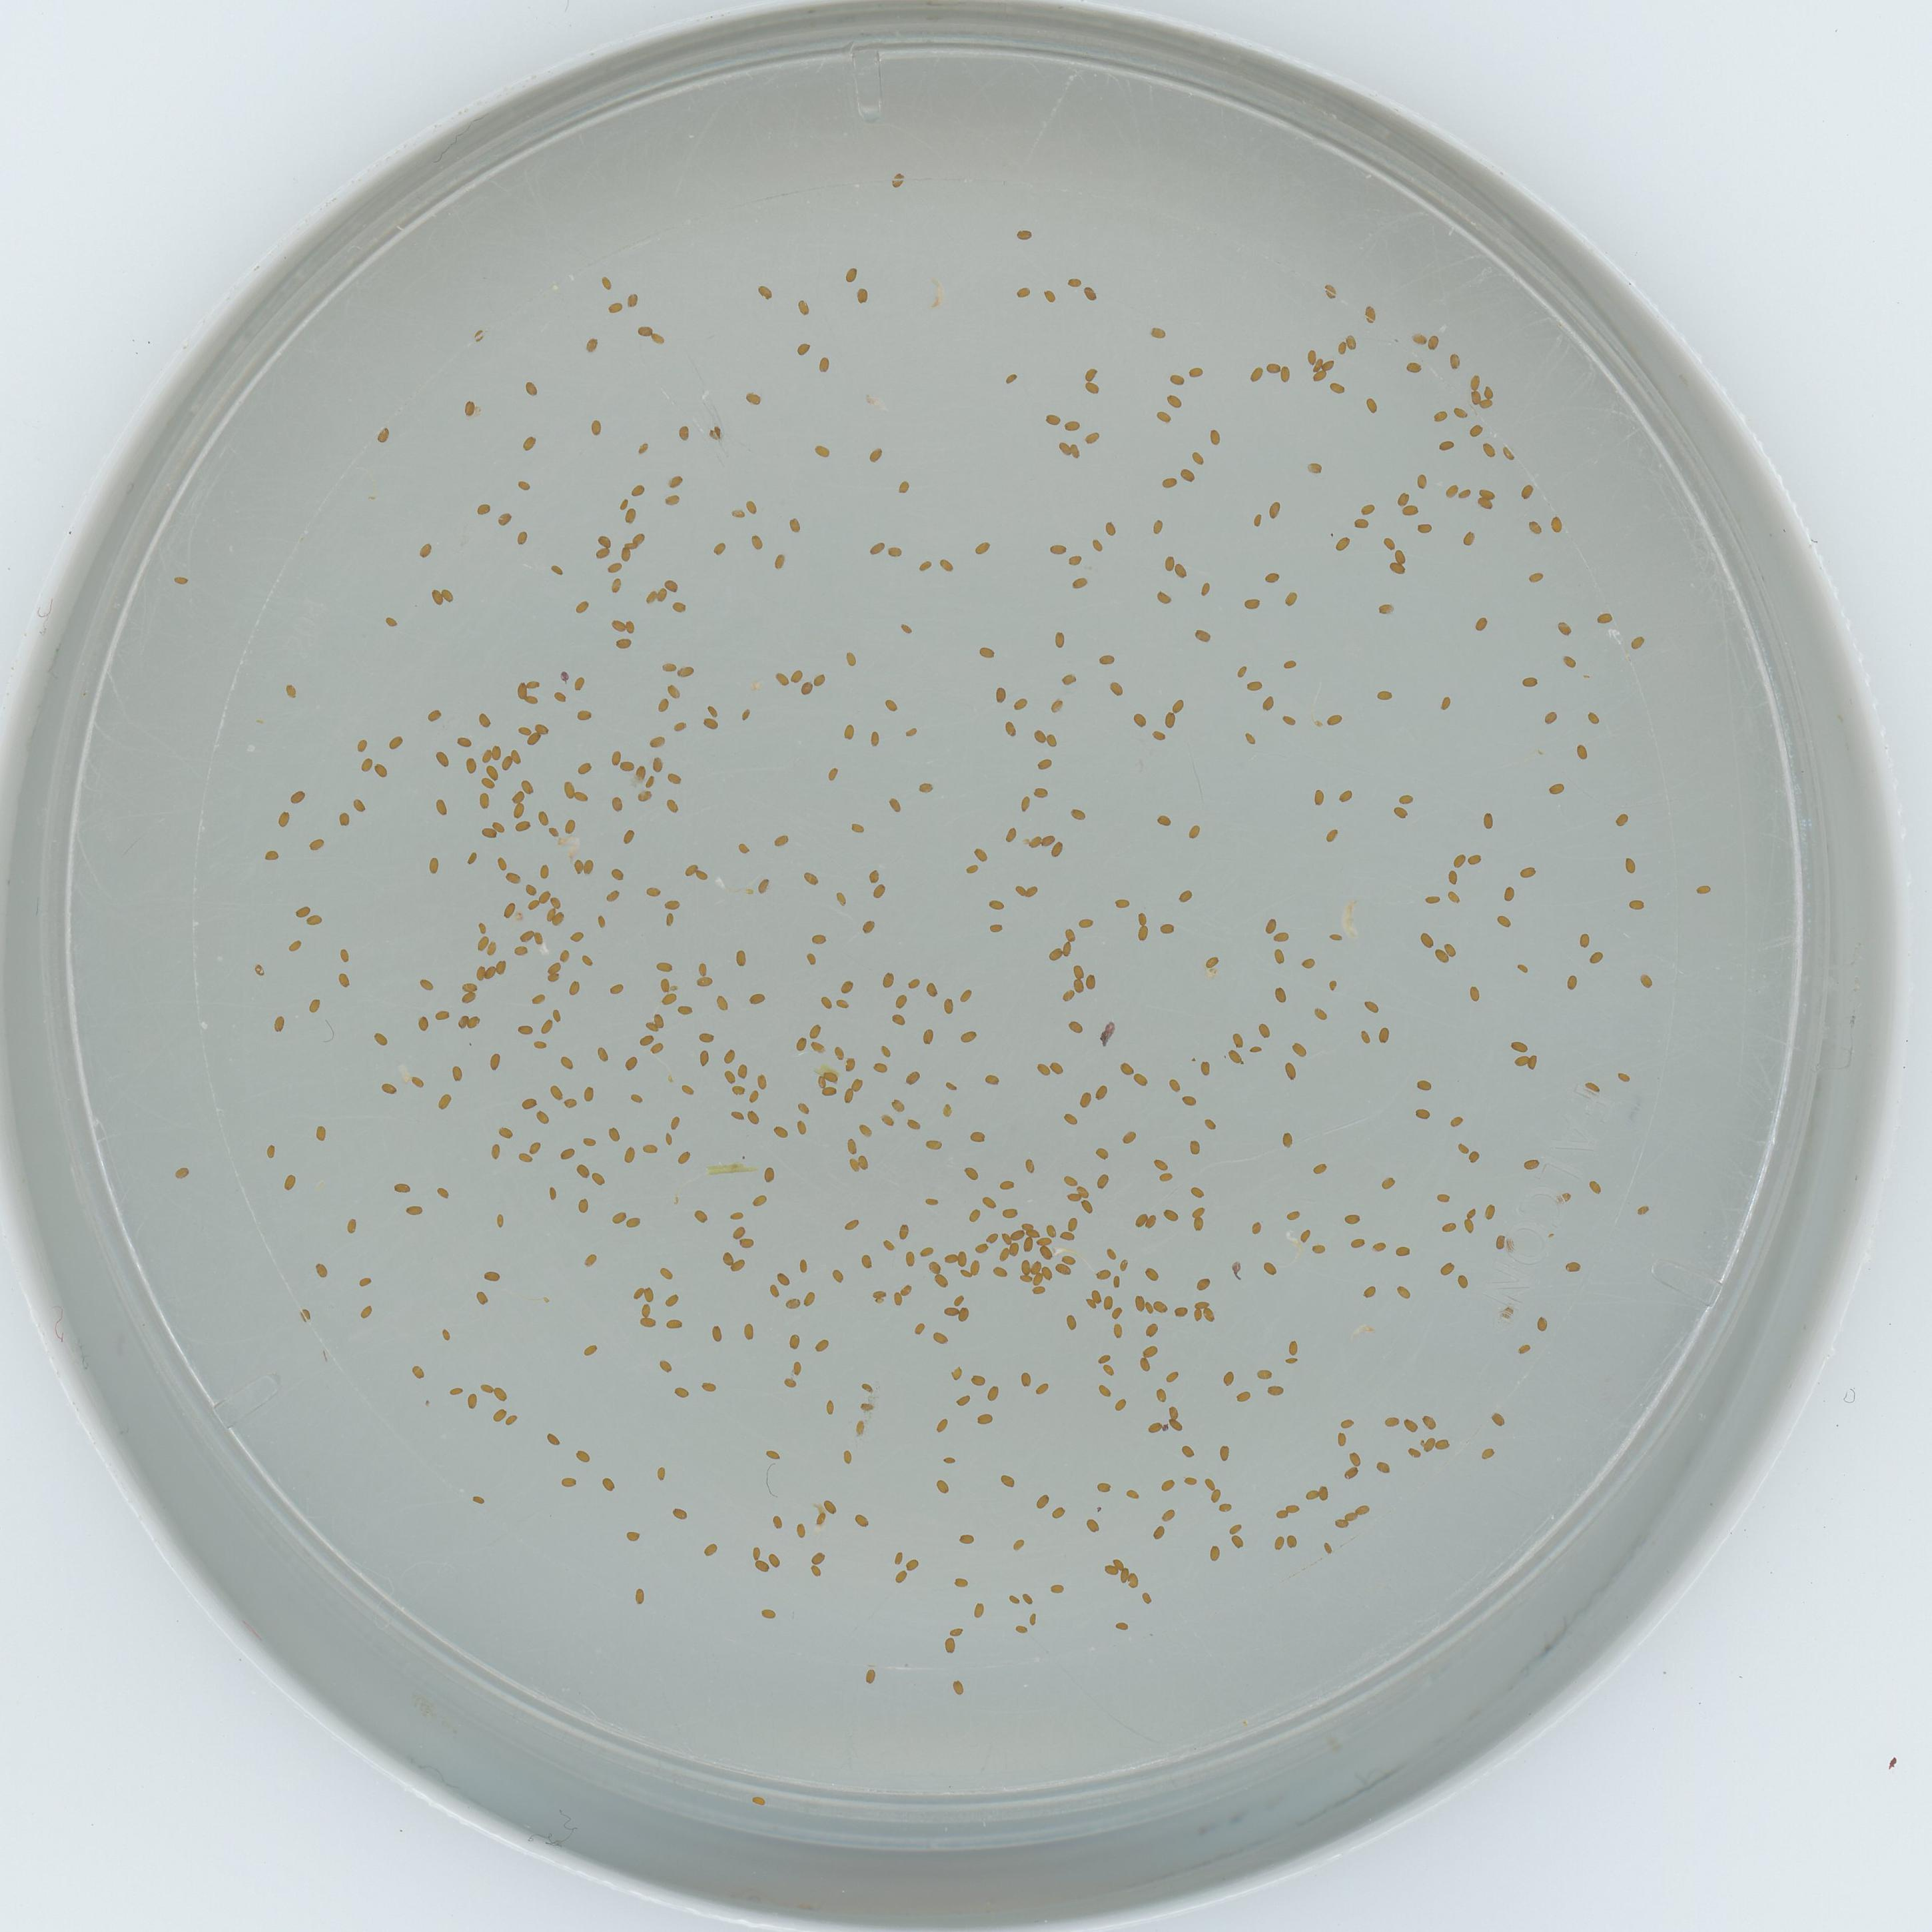seed: (1281, 1060, 1300, 1083), (433, 748, 453, 770), (842, 264, 862, 283), (1477, 812, 1497, 832), (959, 1026, 980, 1044), (732, 947, 748, 970), (1095, 651, 1118, 667), (855, 285, 874, 303), (816, 356, 835, 373), (609, 794, 628, 812), (432, 798, 449, 817), (890, 170, 909, 188), (435, 1090, 455, 1108), (695, 1049, 715, 1067), (740, 1322, 759, 1339), (269, 1014, 288, 1031), (1415, 931, 1435, 948), (1177, 465, 1196, 483), (1546, 515, 1566, 533), (1573, 743, 1592, 761), (1509, 1035, 1529, 1053), (1260, 1258, 1279, 1276), (1290, 1039, 1309, 1056), (1438, 1258, 1458, 1276), (1419, 1412, 1438, 1430), (1279, 1131, 1297, 1150), (1092, 1171, 1111, 1189), (950, 1573, 971, 1589), (1069, 575, 1090, 591), (810, 929, 828, 947), (334, 810, 352, 828), (274, 810, 292, 828), (748, 533, 766, 550), (372, 763, 389, 780), (517, 925, 534, 943), (810, 1548, 828, 1566), (548, 1081, 566, 1099), (931, 1327, 948, 1345), (414, 1014, 432, 1031), (793, 1522, 810, 1539), (591, 1168, 609, 1185), (580, 1083, 598, 1100), (918, 1026, 936, 1044), (794, 1116, 812, 1134), (621, 1145, 639, 1162), (605, 1123, 623, 1141), (632, 1587, 649, 1605), (708, 1323, 725, 1341), (1192, 626, 1210, 644), (1258, 695, 1276, 713), (991, 686, 1008, 704), (1131, 711, 1148, 729), (1164, 391, 1182, 409), (1445, 350, 1463, 368), (1555, 619, 1573, 637), (1442, 939, 1460, 957), (1201, 954, 1219, 971), (1189, 448, 1207, 465), (1281, 589, 1299, 607), (1265, 501, 1283, 518), (1270, 985, 1288, 1003), (1154, 1297, 1171, 1315), (1375, 1024, 1392, 1042), (1523, 1154, 1541, 1171), (1401, 1414, 1419, 1431), (1083, 1516, 1100, 1534), (984, 1384, 1001, 1401), (573, 1196, 593, 1212), (573, 1161, 593, 1177), (718, 1247, 734, 1267), (957, 1532, 977, 1548), (1063, 272, 1083, 288), (1104, 679, 1123, 695), (1244, 678, 1263, 694), (1270, 947, 1286, 966), (1049, 632, 1069, 648), (1260, 918, 1279, 934), (1141, 1322, 1161, 1338), (1341, 1208, 1361, 1224), (1228, 1030, 1247, 1046), (1265, 1382, 1284, 1398), (1093, 1083, 1109, 1102), (1092, 1145, 1111, 1161), (1058, 672, 1079, 686), (1155, 1169, 1177, 1184), (287, 789, 304, 805), (386, 734, 403, 750), (938, 557, 955, 573), (474, 501, 492, 517), (803, 872, 821, 888), (418, 541, 435, 557), (525, 732, 543, 748), (456, 732, 472, 750), (621, 828, 637, 846), (745, 389, 763, 405), (292, 902, 310, 918), (556, 947, 573, 962), (596, 531, 614, 547), (520, 435, 538, 451), (587, 419, 605, 435), (655, 697, 672, 713), (755, 879, 773, 895), (649, 734, 667, 750), (511, 803, 527, 821), (665, 895, 683, 911), (609, 865, 626, 881), (499, 902, 517, 918), (888, 798, 906, 814), (472, 934, 490, 950), (872, 883, 888, 901), (495, 511, 513, 527), (803, 950, 821, 966), (462, 757, 478, 775), (536, 863, 554, 879), (262, 847, 280, 863), (860, 918, 878, 934), (870, 540, 888, 556), (757, 283, 775, 299), (441, 587, 456, 605), (464, 849, 479, 867), (614, 635, 632, 651), (476, 793, 492, 810), (663, 577, 681, 593), (495, 957, 511, 975), (895, 1224, 913, 1240), (515, 1019, 533, 1035), (879, 1237, 897, 1253), (520, 1093, 538, 1109), (497, 1122, 515, 1138), (665, 1315, 683, 1330), (534, 1108, 552, 1123), (948, 1364, 964, 1382), (623, 1054, 640, 1070), (918, 1242, 936, 1258), (639, 1030, 656, 1046), (566, 980, 584, 996), (770, 1513, 787, 1529), (855, 1511, 872, 1527), (483, 1267, 501, 1283), (372, 1030, 389, 1046), (856, 1152, 874, 1168), (671, 1506, 688, 1522), (823, 1499, 840, 1514), (747, 1086, 764, 1102), (674, 1384, 692, 1399), (490, 1407, 508, 1422), (559, 1145, 577, 1161), (600, 1476, 617, 1491), (405, 1201, 423, 1217), (720, 1046, 738, 1062), (628, 1088, 646, 1104), (911, 1320, 929, 1336), (761, 1166, 778, 1182), (393, 1178, 410, 1194), (879, 971, 897, 987), (939, 998, 957, 1014), (311, 1123, 329, 1139), (904, 1069, 922, 1085), (858, 1253, 876, 1269), (824, 1067, 842, 1083), (846, 1136, 863, 1152), (947, 1622, 964, 1638), (789, 1359, 807, 1375), (814, 1336, 832, 1352), (341, 1217, 359, 1233), (656, 1357, 674, 1373), (697, 1026, 715, 1042), (855, 1419, 872, 1435), (662, 989, 679, 1005), (449, 1065, 467, 1081), (761, 1605, 778, 1621), (890, 1095, 908, 1111), (786, 1332, 803, 1348), (754, 1070, 771, 1086), (775, 1269, 793, 1284), (609, 1207, 626, 1223), (669, 1111, 685, 1129), (640, 1315, 658, 1330), (943, 1077, 961, 1093), (954, 1392, 971, 1408), (1047, 540, 1065, 556), (1042, 410, 1060, 426), (1309, 791, 1327, 807), (1467, 421, 1484, 437), (1629, 633, 1645, 651), (1362, 396, 1380, 412), (1033, 755, 1051, 771), (1154, 589, 1171, 605), (1500, 444, 1516, 462), (1067, 807, 1085, 823), (1352, 517, 1369, 533), (1014, 283, 1031, 299), (1520, 863, 1536, 881), (1596, 609, 1614, 625), (1161, 711, 1177, 729), (1548, 780, 1566, 796), (1111, 895, 1129, 911), (1065, 552, 1083, 568), (1500, 885, 1518, 901), (1495, 911, 1511, 929), (1076, 915, 1093, 931), (1242, 594, 1260, 610), (1012, 695, 1030, 711), (1415, 520, 1433, 536), (1063, 416, 1081, 432), (1438, 435, 1456, 451), (1426, 333, 1444, 349), (1154, 409, 1171, 425), (1081, 380, 1099, 396), (1472, 616, 1490, 632), (1157, 920, 1175, 936), (977, 646, 994, 662), (1001, 720, 1019, 736), (1405, 357, 1422, 373), (1380, 534, 1398, 550), (1079, 285, 1097, 301), (1003, 828, 1021, 844), (1451, 403, 1468, 419), (1481, 441, 1499, 456), (1173, 563, 1189, 580), (1148, 322, 1166, 338), (1272, 929, 1290, 945), (971, 847, 989, 863), (1155, 812, 1171, 830), (1334, 536, 1352, 552), (1527, 570, 1545, 586), (1391, 807, 1408, 823), (1376, 686, 1392, 704), (1168, 370, 1185, 386), (1299, 955, 1316, 971), (1394, 488, 1412, 504), (982, 1070, 1000, 1086), (1483, 1201, 1499, 1219), (998, 1472, 1016, 1488), (1194, 1274, 1212, 1290), (1332, 1431, 1350, 1447), (1440, 1217, 1458, 1233), (1141, 1339, 1159, 1355), (991, 1263, 1008, 1279), (1224, 1047, 1242, 1063), (1490, 1410, 1506, 1428), (1373, 1458, 1391, 1474), (1214, 1444, 1230, 1461), (1065, 1017, 1083, 1033), (1415, 1074, 1433, 1090), (1077, 1198, 1095, 1214), (1254, 1021, 1272, 1037), (1394, 1242, 1412, 1258), (1300, 1486, 1318, 1502), (1362, 998, 1380, 1014), (1311, 1005, 1329, 1021), (1233, 1387, 1251, 1403), (1587, 1178, 1605, 1194), (1219, 1369, 1237, 1385), (1254, 1364, 1272, 1380), (1384, 1412, 1401, 1428), (1414, 1104, 1431, 1120), (1394, 1283, 1412, 1299), (1062, 1313, 1079, 1329), (1378, 1173, 1396, 1189), (1564, 1256, 1582, 1272), (1047, 1506, 1065, 1522), (1353, 1500, 1371, 1516), (1060, 1109, 1077, 1125), (1058, 1249, 1076, 1265), (1122, 1486, 1139, 1502), (1180, 1090, 1198, 1106), (1129, 1293, 1145, 1311), (1511, 1053, 1529, 1069), (1141, 1265, 1159, 1281), (1131, 1070, 1148, 1086), (1491, 1231, 1509, 1247), (1161, 1205, 1178, 1221), (1247, 1219, 1263, 1237), (1635, 1203, 1652, 1219), (472, 327, 490, 343), (575, 708, 594, 722), (695, 975, 715, 989), (1476, 499, 1495, 513), (1514, 959, 1534, 973), (1030, 786, 1051, 798), (826, 766, 842, 782), (851, 819, 867, 835), (426, 708, 442, 724), (605, 888, 621, 904), (632, 531, 648, 547), (711, 540, 727, 556), (662, 658, 678, 674), (619, 759, 635, 775), (918, 780, 934, 796), (676, 425, 692, 441), (796, 341, 812, 357), (731, 506, 747, 522), (352, 738, 368, 754), (775, 833, 791, 849), (662, 911, 678, 927), (577, 761, 593, 777), (607, 748, 623, 764), (663, 492, 679, 508), (888, 543, 904, 559), (646, 885, 662, 901), (308, 837, 324, 853), (672, 718, 688, 734), (610, 617, 626, 633), (513, 941, 529, 957), (462, 400, 478, 416), (494, 856, 510, 872), (304, 913, 320, 929), (842, 724, 858, 740), (867, 731, 883, 747), (552, 690, 568, 706), (426, 858, 442, 874), (476, 713, 492, 729), (559, 782, 575, 798), (571, 676, 587, 692), (637, 320, 653, 336), (812, 672, 828, 688), (899, 621, 915, 637), (504, 870, 520, 886), (492, 817, 508, 833), (513, 529, 529, 545), (771, 554, 787, 570), (626, 292, 642, 308), (287, 936, 303, 952), (745, 499, 761, 515), (561, 819, 577, 835), (796, 299, 812, 315), (791, 667, 807, 683), (375, 426, 391, 442), (679, 663, 695, 679), (350, 798, 366, 814), (663, 798, 679, 814), (904, 724, 920, 740), (548, 895, 564, 911), (869, 448, 885, 464), (651, 331, 667, 347), (536, 810, 552, 826), (600, 274, 616, 290), (524, 380, 540, 396), (665, 683, 681, 699), (609, 577, 625, 593), (283, 683, 299, 699), (672, 600, 688, 616), (816, 442, 832, 458), (479, 777, 495, 793), (787, 517, 803, 533), (667, 771, 683, 787), (635, 441, 651, 456), (663, 1292, 679, 1307), (563, 1095, 579, 1111), (934, 1477, 950, 1493), (311, 1261, 327, 1277), (531, 991, 547, 1007), (832, 1042, 847, 1058), (793, 1033, 809, 1049), (336, 971, 352, 987), (487, 1053, 502, 1069), (858, 1120, 874, 1136), (409, 1072, 425, 1088), (545, 1431, 561, 1447), (582, 1341, 598, 1357), (715, 994, 731, 1010), (839, 978, 855, 994), (901, 1279, 916, 1295), (559, 1053, 575, 1069), (678, 1001, 694, 1017), (262, 1143, 278, 1159), (925, 1134, 941, 1150), (934, 1415, 950, 1431), (750, 989, 766, 1005), (924, 980, 939, 996), (906, 1555, 922, 1571), (306, 998, 322, 1014), (906, 975, 922, 991), (478, 1380, 494, 1396), (356, 1272, 372, 1288), (752, 1191, 768, 1207), (736, 1060, 752, 1076), (766, 1445, 782, 1461), (786, 1295, 801, 1311), (702, 1378, 718, 1394), (773, 1122, 789, 1138), (281, 1173, 297, 1189), (862, 1378, 878, 1394), (878, 1042, 893, 1058), (357, 1302, 373, 1318), (803, 1290, 819, 1306), (810, 1037, 826, 1053), (754, 1559, 770, 1575), (464, 1392, 479, 1408), (494, 1387, 510, 1403), (902, 1251, 918, 1267), (487, 1143, 502, 1159), (731, 1258, 747, 1274), (655, 1465, 671, 1481), (662, 1131, 678, 1146), (823, 1398, 839, 1414), (748, 1545, 764, 1560), (297, 1307, 313, 1323), (173, 1162, 189, 1178), (796, 1099, 812, 1115), (796, 1256, 812, 1272), (409, 1362, 425, 1378), (642, 1284, 658, 1300), (939, 1100, 955, 1116), (729, 1106, 745, 1122), (948, 1681, 964, 1697), (448, 1382, 464, 1398), (941, 1638, 957, 1654), (863, 1668, 879, 1684), (853, 1074, 869, 1090), (731, 1223, 747, 1238), (890, 1550, 906, 1566), (380, 1077, 396, 1093), (492, 1212, 508, 1228), (630, 1284, 646, 1300), (890, 1290, 906, 1306), (893, 1568, 909, 1583), (694, 1207, 709, 1223), (679, 1079, 695, 1095), (653, 1010, 669, 1026), (656, 977, 672, 993), (656, 959, 672, 975), (844, 1157, 860, 1173), (1629, 895, 1645, 911), (1543, 709, 1559, 725), (1306, 458, 1322, 474), (1047, 697, 1063, 713), (1589, 948, 1605, 964), (1168, 697, 1184, 713), (1445, 890, 1461, 906), (1444, 869, 1460, 885), (1040, 287, 1056, 303), (1016, 225, 1031, 241), (1083, 428, 1099, 444), (1414, 472, 1430, 488), (1062, 925, 1077, 941), (1325, 713, 1341, 729), (1449, 853, 1465, 869), (1460, 529, 1476, 545), (1161, 472, 1177, 488), (1016, 796, 1031, 812), (1207, 428, 1223, 444), (1150, 729, 1166, 745), (1522, 672, 1537, 688), (1323, 828, 1339, 844), (1329, 379, 1345, 395), (1410, 329, 1426, 345), (1345, 334, 1361, 350), (1003, 370, 1019, 386), (1081, 364, 1097, 380), (1247, 366, 1263, 382), (1424, 893, 1440, 909), (1433, 947, 1449, 962), (1265, 357, 1281, 373), (1233, 663, 1249, 679), (973, 540, 989, 556), (1185, 824, 1201, 840), (1279, 713, 1295, 729), (1520, 483, 1536, 499), (1467, 372, 1483, 387), (1433, 407, 1449, 423), (1047, 842, 1063, 858), (1585, 709, 1601, 725), (1196, 580, 1212, 596), (1361, 501, 1376, 517), (1697, 883, 1713, 899), (1046, 947, 1062, 962), (1438, 695, 1454, 711), (1086, 538, 1102, 554), (1053, 439, 1069, 455), (1527, 518, 1543, 534), (1249, 511, 1265, 527), (1622, 858, 1638, 874), (1444, 483, 1460, 499), (1458, 487, 1474, 502), (1479, 485, 1495, 501), (1322, 283, 1338, 299), (1060, 1169, 1076, 1185), (1003, 1592, 1019, 1608), (1346, 1449, 1362, 1465), (1010, 1536, 1026, 1552), (1343, 1465, 1359, 1481), (970, 1127, 985, 1143), (1049, 1058, 1065, 1074), (1228, 1536, 1244, 1552), (1033, 1493, 1049, 1509), (998, 1175, 1014, 1191), (1159, 1476, 1175, 1491), (1095, 1382, 1111, 1398), (977, 1410, 993, 1426), (1021, 1157, 1037, 1173), (1150, 1523, 1166, 1539), (1076, 1092, 1092, 1108), (1109, 1306, 1125, 1322), (1205, 1545, 1221, 1560), (1454, 1138, 1470, 1154), (1152, 1385, 1168, 1401), (1454, 1272, 1470, 1288), (1102, 1244, 1118, 1260), (1201, 1115, 1217, 1131), (1361, 1283, 1376, 1299), (1093, 1479, 1109, 1495), (964, 1164, 980, 1180), (1435, 1435, 1451, 1451), (1355, 1026, 1371, 1042), (1162, 1368, 1178, 1384), (1460, 1217, 1476, 1233), (971, 1601, 987, 1617), (1182, 1474, 1198, 1490), (1108, 1322, 1123, 1338), (1166, 1076, 1182, 1092), (1350, 1235, 1366, 1251), (1269, 1536, 1284, 1552), (1465, 985, 1481, 1001), (1583, 1077, 1599, 1093), (1017, 1371, 1033, 1387), (1284, 1339, 1300, 1355), (968, 1207, 984, 1223), (1185, 1138, 1201, 1154), (1215, 1500, 1231, 1516), (1136, 1591, 1152, 1606), (1159, 1506, 1175, 1522), (1058, 1228, 1074, 1244), (1339, 1414, 1355, 1430), (1196, 1060, 1212, 1076), (970, 1371, 985, 1387), (1316, 1484, 1332, 1500), (1311, 1159, 1327, 1175), (1187, 1182, 1203, 1198), (1178, 1444, 1194, 1460), (1118, 1058, 1134, 1074), (1108, 1274, 1123, 1290), (1111, 1394, 1127, 1410), (1527, 1053, 1543, 1069), (1035, 1060, 1051, 1076), (1113, 1617, 1129, 1633), (1166, 1403, 1182, 1419), (1042, 1221, 1058, 1237), (1021, 1237, 1037, 1253), (984, 1228, 1000, 1244), (957, 987, 973, 1003), (1499, 1304, 1514, 1320), (752, 1794, 768, 1810), (605, 561, 623, 575), (479, 828, 497, 842), (649, 757, 667, 771), (573, 598, 591, 612), (428, 589, 442, 607), (844, 653, 862, 667), (865, 869, 883, 883), (582, 338, 600, 352), (833, 892, 851, 906), (630, 483, 648, 497), (594, 1046, 612, 1060), (932, 1274, 950, 1288), (745, 1109, 763, 1123), (582, 1253, 600, 1267), (729, 1207, 747, 1221), (842, 1056, 860, 1070), (844, 1215, 862, 1230), (642, 1139, 660, 1154), (987, 897, 1005, 911), (1401, 504, 1419, 518), (1387, 563, 1405, 577), (1040, 832, 1058, 846), (1391, 548, 1408, 563), (1614, 812, 1631, 826), (1001, 1205, 1019, 1219), (1145, 1419, 1162, 1433), (980, 1194, 998, 1208), (1063, 1215, 1081, 1230), (1299, 1226, 1313, 1244), (1309, 1240, 1327, 1254), (1037, 1246, 1054, 1260), (1532, 1316, 1550, 1330), (1421, 1435, 1435, 1453), (1405, 1445, 1422, 1460), (1504, 1235, 1518, 1253), (970, 1258, 982, 1277), (534, 720, 550, 734), (918, 557, 932, 573), (580, 952, 596, 966), (515, 478, 531, 492), (637, 789, 653, 803), (527, 676, 541, 692), (515, 821, 531, 835), (623, 510, 639, 524), (669, 474, 685, 488), (594, 547, 610, 561), (573, 791, 589, 805), (472, 920, 488, 934), (883, 699, 899, 713), (775, 671, 791, 685), (594, 915, 610, 929), (478, 750, 494, 764), (800, 681, 816, 695), (736, 842, 752, 856), (695, 869, 711, 883), (520, 778, 536, 793), (173, 571, 188, 587), (625, 619, 640, 633), (487, 764, 501, 780), (895, 479, 911, 494), (582, 860, 596, 876), (607, 299, 623, 313), (334, 947, 350, 961), (548, 563, 564, 577), (357, 757, 372, 773), (740, 708, 755, 722), (642, 591, 656, 607), (570, 929, 586, 943), (568, 858, 582, 874), (384, 616, 400, 630), (485, 941, 501, 955), (545, 826, 559, 842), (683, 862, 697, 878), (893, 993, 909, 1007), (872, 1060, 888, 1074), (540, 1017, 556, 1031), (527, 1138, 543, 1152), (892, 1012, 908, 1026), (433, 1007, 449, 1021), (809, 1023, 824, 1037), (740, 1235, 755, 1249), (533, 1037, 548, 1051), (550, 1007, 566, 1021), (658, 1265, 674, 1279), (782, 1375, 798, 1389), (418, 977, 433, 991), (941, 1453, 957, 1467), (561, 1474, 577, 1488), (720, 1069, 736, 1083), (472, 1292, 488, 1306), (543, 1185, 559, 1200), (768, 1553, 784, 1568), (625, 1529, 640, 1543), (518, 1150, 533, 1166), (435, 1185, 451, 1200), (927, 1258, 943, 1272), (881, 1111, 897, 1125), (906, 1115, 922, 1129), (809, 1564, 824, 1578), (676, 1148, 692, 1162), (702, 1543, 718, 1557), (582, 1134, 598, 1148), (814, 1511, 828, 1527), (924, 1192, 939, 1207), (941, 1249, 957, 1263), (610, 982, 626, 996), (731, 1081, 747, 1095), (840, 1449, 856, 1463), (649, 1040, 665, 1054), (626, 1214, 642, 1228), (832, 1269, 847, 1283), (469, 1491, 485, 1506), (862, 1399, 876, 1415), (547, 973, 563, 987), (251, 962, 265, 978), (1398, 793, 1414, 807), (1336, 789, 1352, 803), (1576, 932, 1592, 947), (1263, 570, 1279, 584), (987, 920, 1003, 934), (1467, 853, 1483, 867), (1161, 556, 1175, 571), (1304, 349, 1318, 364), (1562, 655, 1578, 669), (1177, 890, 1192, 904), (1187, 364, 1203, 379), (966, 863, 982, 878), (1030, 729, 1046, 743), (1132, 911, 1148, 925), (1134, 925, 1150, 939), (1281, 658, 1297, 672), (1150, 518, 1164, 534), (1322, 356, 1338, 370), (1044, 734, 1060, 748), (1376, 602, 1392, 616), (1026, 883, 1042, 897), (1026, 833, 1040, 849), (1012, 883, 1026, 899), (1362, 308, 1378, 322), (1240, 731, 1256, 745), (1327, 931, 1343, 945), (1284, 1207, 1300, 1221), (973, 1240, 989, 1254), (1099, 1364, 1115, 1378), (1226, 1520, 1242, 1534), (1371, 1238, 1387, 1253), (1024, 1612, 1039, 1628), (1093, 1265, 1109, 1279), (1145, 1212, 1159, 1228), (1449, 1113, 1465, 1127), (1284, 1534, 1300, 1548), (1120, 1129, 1136, 1143), (1201, 1476, 1217, 1490), (1191, 1217, 1207, 1231), (1047, 1582, 1063, 1596), (1083, 973, 1097, 989), (1564, 975, 1580, 989), (1152, 1155, 1168, 1169), (1284, 1500, 1300, 1514), (1166, 1419, 1182, 1433), (1173, 1304, 1189, 1318), (1136, 1357, 1152, 1371), (1318, 1541, 1334, 1555), (1100, 1564, 1116, 1578), (1479, 1445, 1495, 1460), (1033, 1382, 1049, 1396), (1207, 1490, 1223, 1504), (1054, 1261, 1070, 1276), (1189, 1203, 1205, 1217), (1516, 1341, 1532, 1355), (1467, 1150, 1483, 1164), (1247, 1040, 1263, 1054), (1030, 1284, 1046, 1299), (1132, 1212, 1146, 1228), (1463, 1205, 1479, 1219), (1093, 1350, 1109, 1364), (1016, 1260, 1031, 1274), (1125, 1573, 1139, 1589), (1042, 1265, 1058, 1279), (1035, 1233, 1051, 1247), (1115, 1569, 1129, 1585), (1557, 1189, 1573, 1203), (1083, 1297, 1099, 1311), (1283, 1353, 1299, 1368), (439, 1327, 455, 1341), (490, 743, 502, 761), (957, 1249, 970, 1267), (1279, 366, 1292, 384), (1311, 368, 1329, 380), (1468, 389, 1481, 407), (1076, 1185, 1093, 1198), (1088, 1286, 1100, 1304), (533, 931, 547, 945), (704, 718, 718, 732), (616, 495, 630, 510), (511, 789, 525, 803), (524, 883, 538, 897), (541, 909, 556, 924), (706, 704, 720, 718), (499, 755, 513, 770), (552, 911, 566, 925), (819, 994, 833, 1008), (770, 1284, 784, 1299), (639, 1304, 653, 1318), (575, 1449, 589, 1463), (467, 1014, 481, 1028), (504, 1414, 518, 1428), (455, 1014, 469, 1028), (842, 1088, 856, 1102), (950, 1293, 964, 1307), (483, 966, 497, 980), (472, 966, 487, 980), (1332, 340, 1346, 354), (1102, 522, 1116, 536), (1060, 941, 1074, 955), (1021, 1591, 1035, 1605), (1060, 987, 1074, 1001), (1617, 1069, 1631, 1083), (1640, 973, 1654, 987), (1435, 1189, 1449, 1203), (1189, 1307, 1203, 1322), (1203, 1307, 1217, 1322), (1323, 978, 1338, 993), (1070, 978, 1085, 993), (1274, 1507, 1288, 1522), (517, 724, 533, 736), (525, 899, 541, 911), (656, 587, 669, 603), (515, 683, 527, 699), (511, 750, 524, 766), (635, 764, 648, 780), (524, 695, 540, 708), (821, 1085, 837, 1097), (460, 991, 476, 1003), (957, 1306, 970, 1322), (695, 962, 711, 975), (874, 1286, 890, 1299), (1069, 442, 1081, 458), (1017, 1272, 1033, 1284), (1012, 1622, 1028, 1635), (1010, 1228, 1026, 1240), (1065, 1191, 1081, 1203), (1192, 1297, 1208, 1309), (1332, 1518, 1348, 1530), (1069, 966, 1085, 978), (642, 1021, 660, 1031), (1145, 1299, 1155, 1316), (538, 892, 550, 906), (646, 775, 658, 789), (837, 996, 851, 1008), (1484, 384, 1497, 398), (1479, 398, 1493, 410), (1100, 1295, 1113, 1309), (996, 1231, 1008, 1246), (1008, 1242, 1021, 1256), (1116, 1258, 1131, 1270), (1017, 1217, 1031, 1230), (1030, 1260, 1042, 1274), (1031, 1274, 1044, 1288), (1311, 359, 1325, 372), (621, 548, 633, 563), (462, 980, 478, 991), (1341, 1511, 1357, 1522), (945, 1304, 957, 1316), (816, 1074, 828, 1086), (996, 1247, 1008, 1260), (1111, 1555, 1123, 1568), (959, 1269, 971, 1281), (547, 962, 561, 973), (623, 543, 639, 552), (1026, 1224, 1037, 1237)
